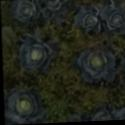cabbage: (24, 44, 45, 63), (19, 98, 37, 115), (90, 53, 106, 71), (19, 2, 34, 19), (83, 14, 97, 29), (112, 14, 124, 28), (99, 114, 112, 121)
